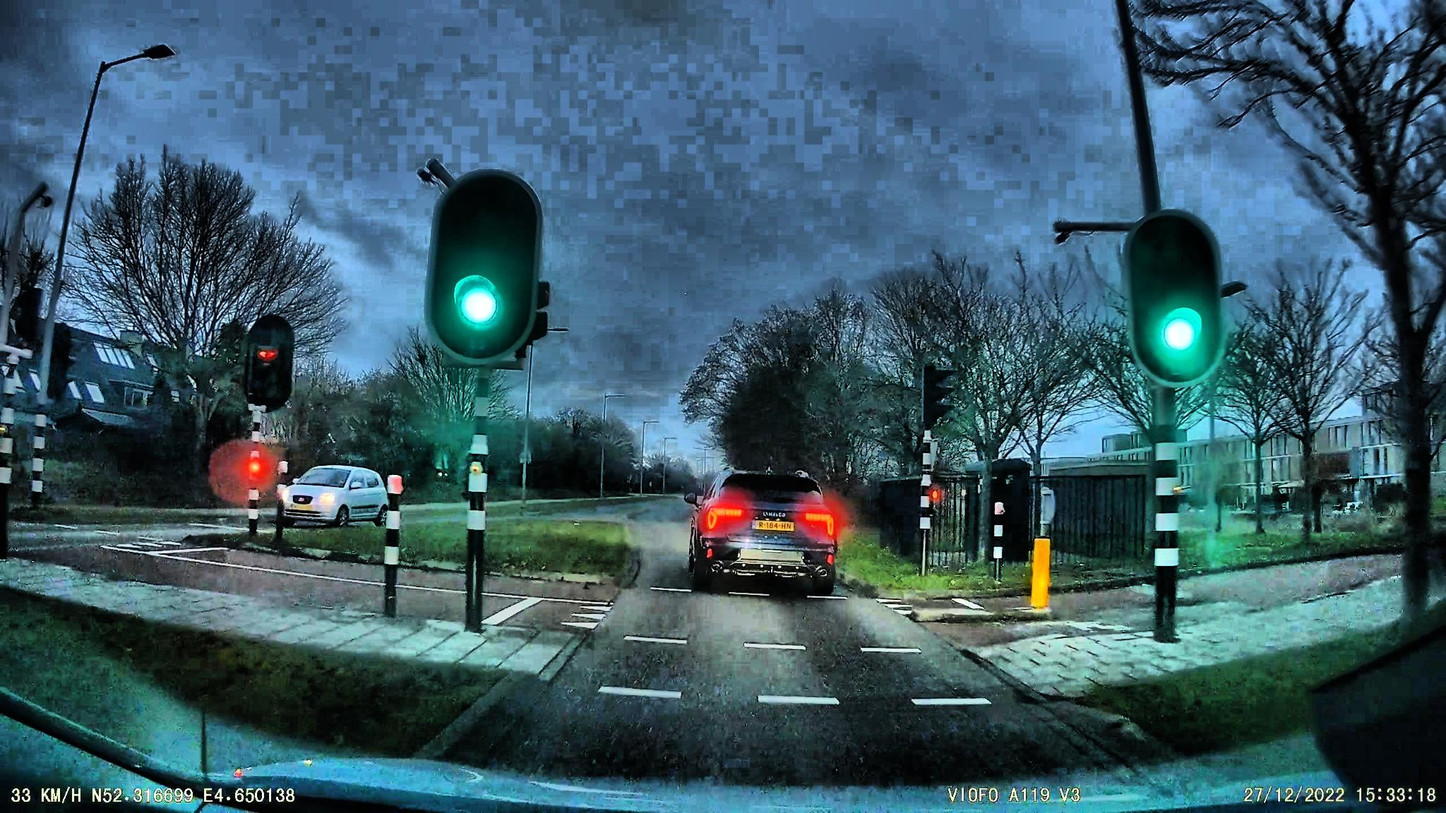Roads: (517, 508, 1176, 793)
